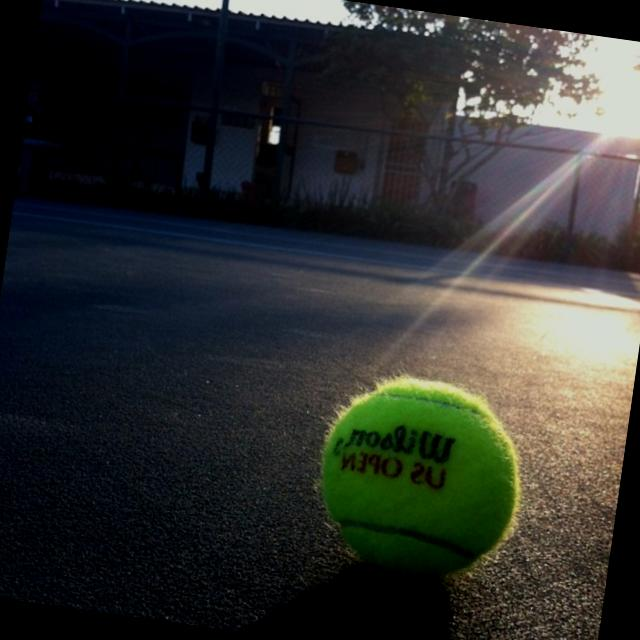Tennis Ball: (304, 360, 538, 588)
